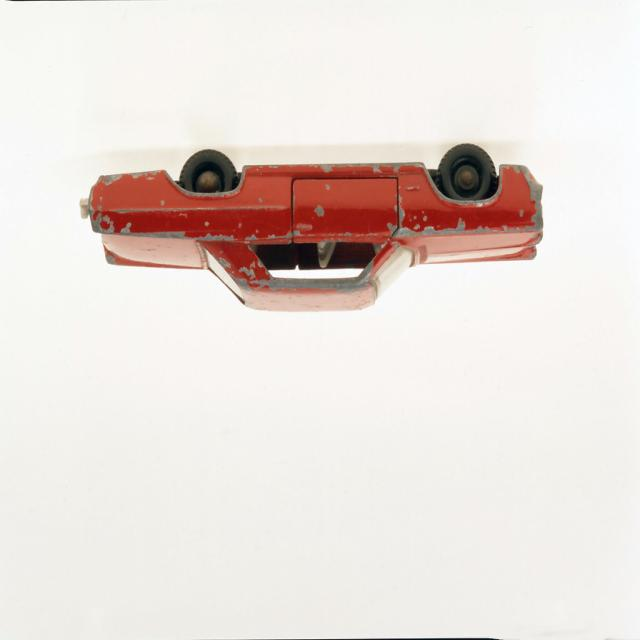Car: (80, 143, 544, 314)
